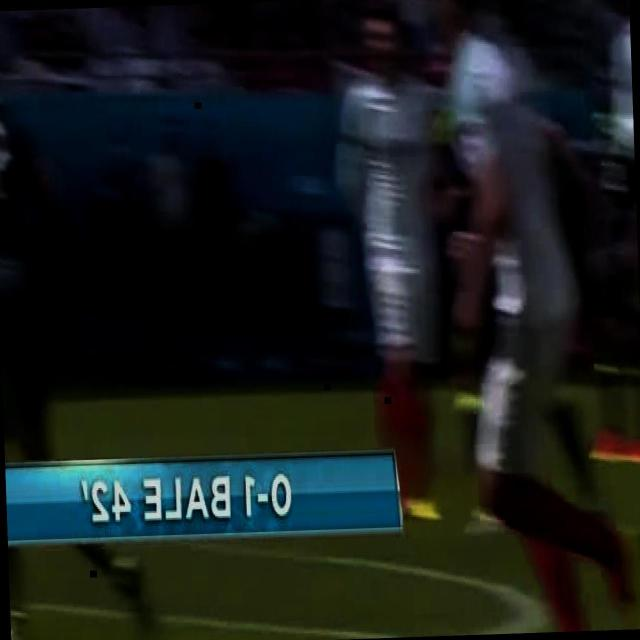player-white: (436, 0, 640, 635), (0, 6, 154, 640), (330, 4, 452, 522)
